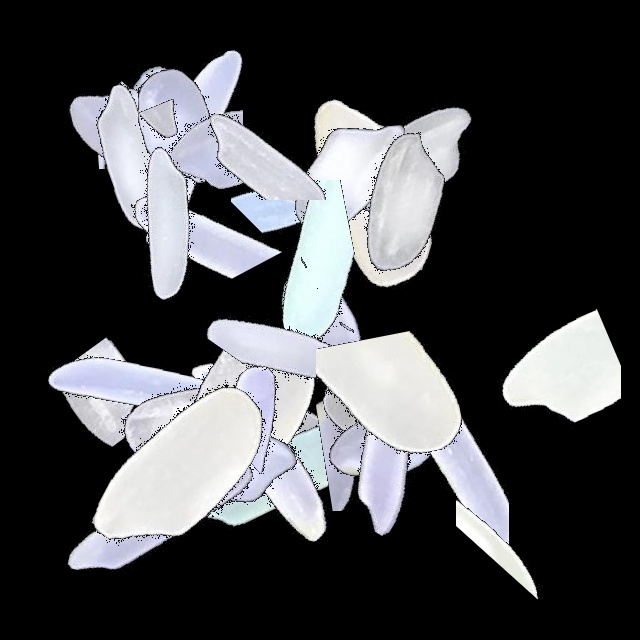Broken: (253, 390, 503, 564), (335, 347, 509, 597), (18, 346, 268, 516), (149, 180, 399, 339), (144, 42, 394, 200), (180, 234, 430, 390), (468, 256, 621, 506), (83, 128, 333, 281), (49, 292, 200, 542), (316, 286, 467, 536), (111, 261, 260, 511), (153, 310, 299, 560), (102, 23, 243, 273), (231, 291, 353, 541), (258, 392, 508, 511), (231, 52, 348, 302), (293, 81, 406, 331), (201, 101, 451, 207), (456, 377, 560, 627), (16, 77, 266, 169), (221, 202, 471, 293), (320, 48, 409, 298), (121, 24, 208, 274), (62, 0, 148, 250), (282, 237, 367, 487), (116, 204, 366, 284), (87, 323, 166, 573), (144, 390, 394, 465), (171, 317, 246, 567)
Full: (134, 298, 384, 548), (195, 204, 445, 454), (57, 0, 307, 250), (153, 351, 403, 601), (0, 0, 250, 250), (70, 23, 320, 273), (3, 36, 253, 286), (52, 0, 302, 250), (135, 325, 385, 575), (248, 292, 498, 542), (244, 72, 494, 322), (113, 303, 363, 553), (288, 32, 538, 282), (267, 317, 517, 567), (224, 55, 474, 305), (40, 99, 290, 349), (71, 298, 321, 548), (276, 75, 526, 325), (108, 337, 358, 587), (34, 390, 284, 640), (59, 343, 309, 593)
